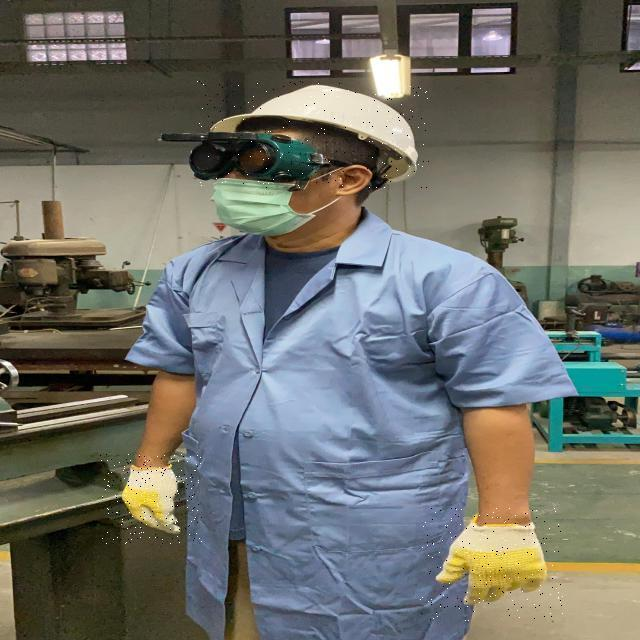gloves: (430, 511, 551, 613), (118, 457, 185, 539)
goggles: (190, 123, 347, 187)
helmet: (197, 80, 429, 188)
